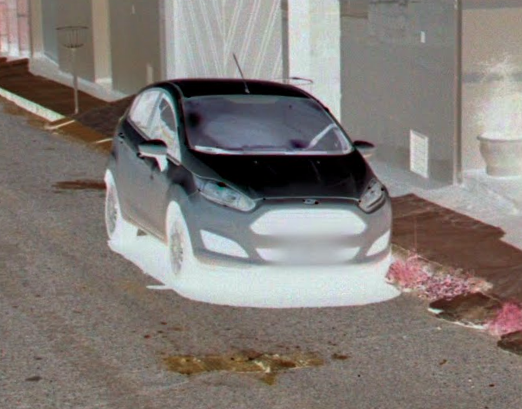car: (101, 50, 395, 302)
